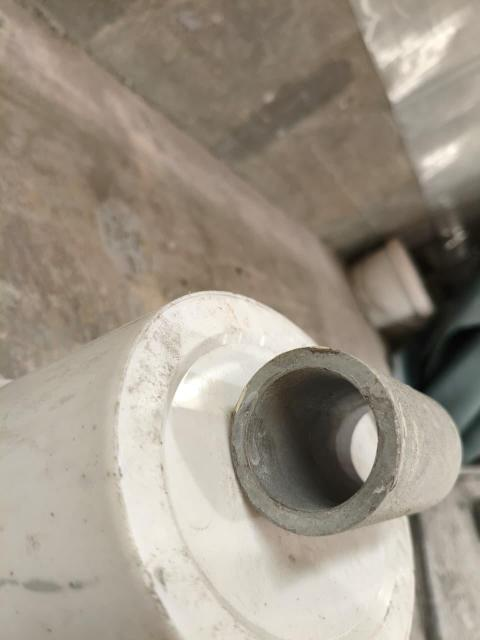Metal: (233, 345, 480, 530)
